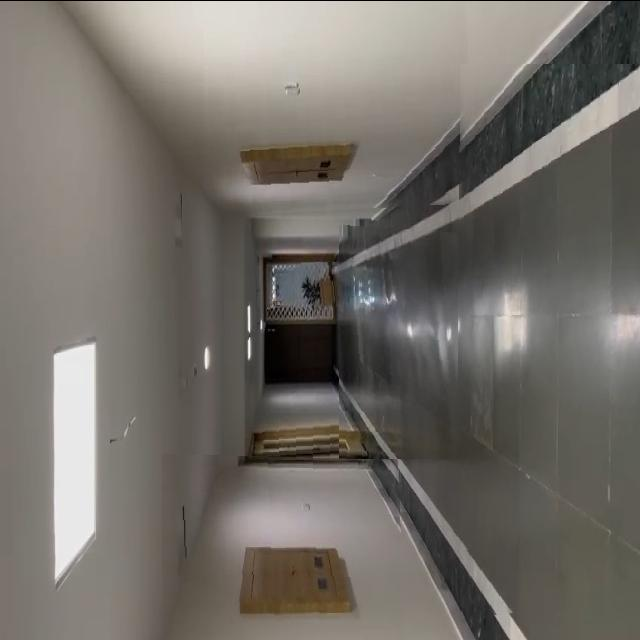door: (254, 412, 369, 469)
floor: (456, 63, 640, 618), (339, 223, 472, 458)
furniture: (299, 261, 344, 314)
wall: (204, 0, 475, 216), (162, 453, 405, 640)
